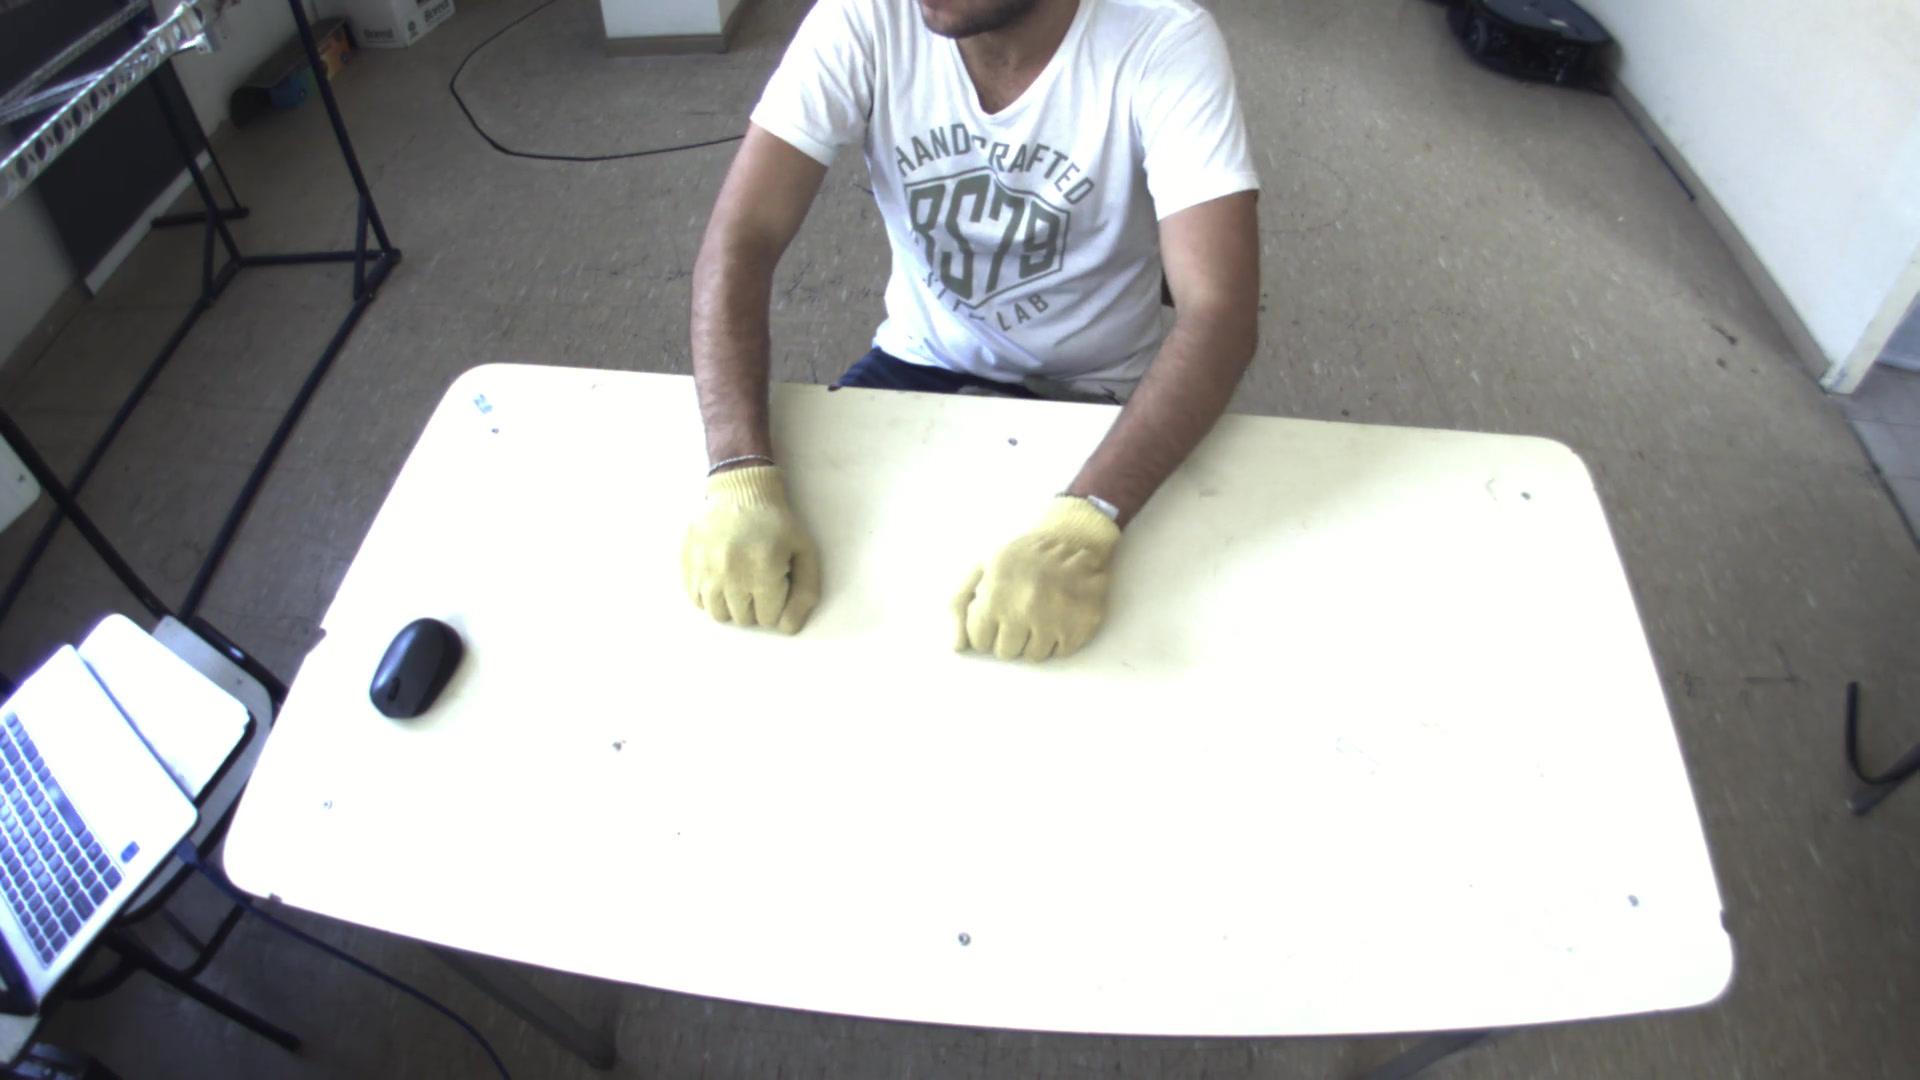hand: (938, 491, 1139, 669), (663, 451, 828, 644)
